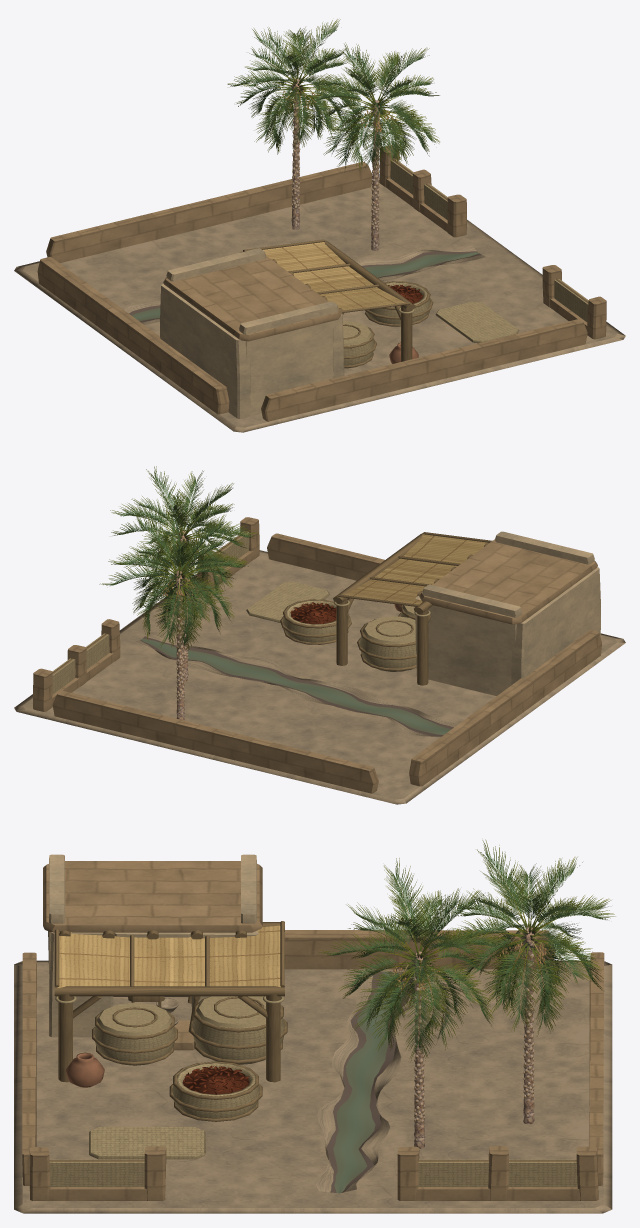
Rendered from garden.glb.
3 views of the same model, one above another, from view 1: azimuth 30°, elevation 25°; view 2: azimuth 150°, elevation 25°; view 3: azimuth 270°, elevation 25° (orthographic). The views are drawn at different scales.
Visible parts, largest first — view 1: original-garden-game-raw-brick-facing, original-garden-alluvial-earth, game-date-palm-source-Tree_1Mat (×2), original-garden-warm-clay-plaster, original-garden-reed-mat, original-garden-laid-reed-thatch, original-garden-worn-timber, game-date-palm-source-Tree_0Mat (×2), original-garden-courtyard-irrigation-water, original-garden-courtyard-wet-alluvial-silt, game-date-palm-source-Tree_2Mat; view 2: original-garden-alluvial-earth, original-garden-game-raw-brick-facing, game-date-palm-source-Tree_1Mat (×2), original-garden-warm-clay-plaster, original-garden-reed-mat, original-garden-worn-timber, original-garden-laid-reed-thatch, original-garden-courtyard-irrigation-water, original-garden-courtyard-wet-alluvial-silt, original-garden-courtyard-dried-date-skin, game-date-palm-source-Tree_0Mat, game-date-palm-source-Tree_2Mat (+1 smaller); view 3: original-garden-alluvial-earth, original-garden-game-raw-brick-facing, game-date-palm-source-Tree_1Mat (×2), original-garden-reed-mat, original-garden-worn-timber, original-garden-laid-reed-thatch, original-garden-courtyard-irrigation-water, original-garden-warm-clay-plaster, original-garden-courtyard-wet-alluvial-silt, game-date-palm-source-Tree_0Mat (×2), game-date-palm-source-Tree_2Mat (×2), game-date-palm-source-Tree_3Mat (×2) (+2 smaller).
Part boxes in pixels (x1,y1,x2,y2): original-garden-game-raw-brick-facing: (37,145,606,421); original-garden-alluvial-earth: (14,180,625,432); game-date-palm-source-Tree_1Mat (×2): (227,19,439,171); original-garden-warm-clay-plaster: (160,248,344,418); original-garden-reed-mat: (343,159,588,368); original-garden-laid-reed-thatch: (263,242,405,310); original-garden-worn-timber: (240,159,588,367); game-date-palm-source-Tree_0Mat (×2): (291,79,379,250); original-garden-courtyard-irrigation-water: (131,252,479,320); original-garden-courtyard-wet-alluvial-silt: (129,251,481,322); game-date-palm-source-Tree_2Mat: (291,99,300,210); original-garden-alluvial-earth: (14,550,625,804); original-garden-game-raw-brick-facing: (33,517,601,793); game-date-palm-source-Tree_1Mat (×2): (99,466,259,652); original-garden-warm-clay-plaster: (415,531,600,695); original-garden-reed-mat: (52,531,430,693); original-garden-worn-timber: (52,531,492,685); original-garden-laid-reed-thatch: (344,534,486,604); original-garden-courtyard-irrigation-water: (141,638,450,734); original-garden-courtyard-wet-alluvial-silt: (140,636,453,736); original-garden-courtyard-dried-date-skin: (290,602,336,624); game-date-palm-source-Tree_0Mat: (175,571,184,720); game-date-palm-source-Tree_2Mat: (175,591,184,701); original-garden-alluvial-earth: (14,960,612,1213); original-garden-game-raw-brick-facing: (22,861,604,1200); game-date-palm-source-Tree_1Mat (×2): (319,839,615,1060); original-garden-reed-mat: (49,996,577,1186); original-garden-worn-timber: (49,921,576,1161); original-garden-laid-reed-thatch: (57,925,280,987); original-garden-courtyard-irrigation-water: (333,971,401,1193); original-garden-warm-clay-plaster: (48,854,258,1037); original-garden-courtyard-wet-alluvial-silt: (113,971,409,1192); game-date-palm-source-Tree_0Mat (×2): (414,927,534,1148); game-date-palm-source-Tree_2Mat (×2): (414,953,534,1123); game-date-palm-source-Tree_3Mat (×2): (386,901,555,996).
Bounding box in the file's own units: 10.77 × 5.34 × 11.01.
16 materials, 12 textured.
